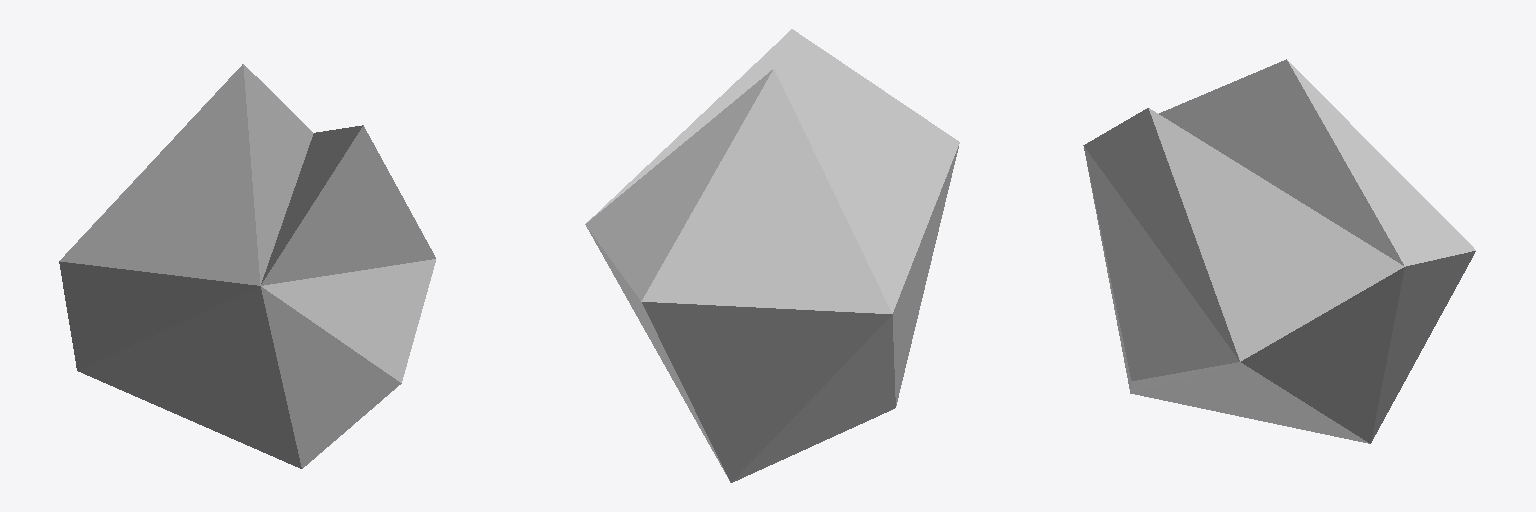
Rendered from possibilities.obj.
3 renders of one model, left to right at view 1: azimuth 30°, elevation 25°; view 2: azimuth 150°, elevation 25°; view 3: azimuth 270°, elevation 25°, orthographic.
Parts seen in each view (by area): view 1: 000_Buffer_Layer; view 2: 000_Buffer_Layer; view 3: 000_Buffer_Layer.
Part boxes in pixels (left/top/right/bottom): 000_Buffer_Layer: left=59, top=64, right=435, bottom=468; 000_Buffer_Layer: left=585, top=29, right=959, bottom=482; 000_Buffer_Layer: left=1083, top=59, right=1475, bottom=443.
Bounding box in the file's own units: 66.77 × 76.3 × 70.7.